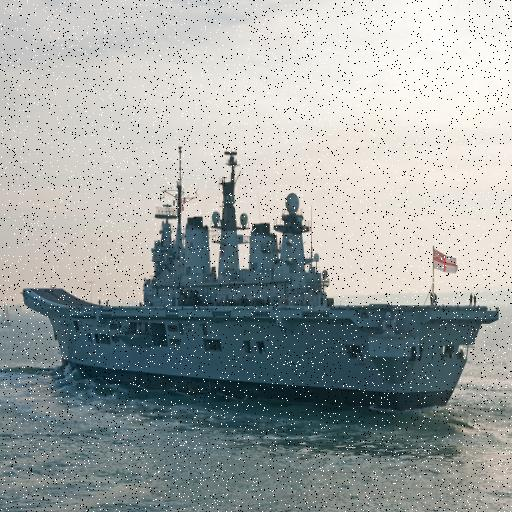Portanaves: (21, 138, 504, 413)
